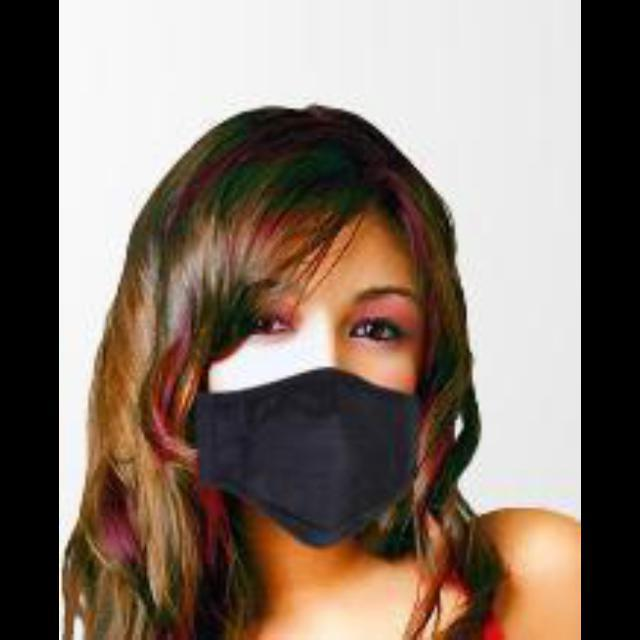suspicion: (152, 86, 512, 598)
